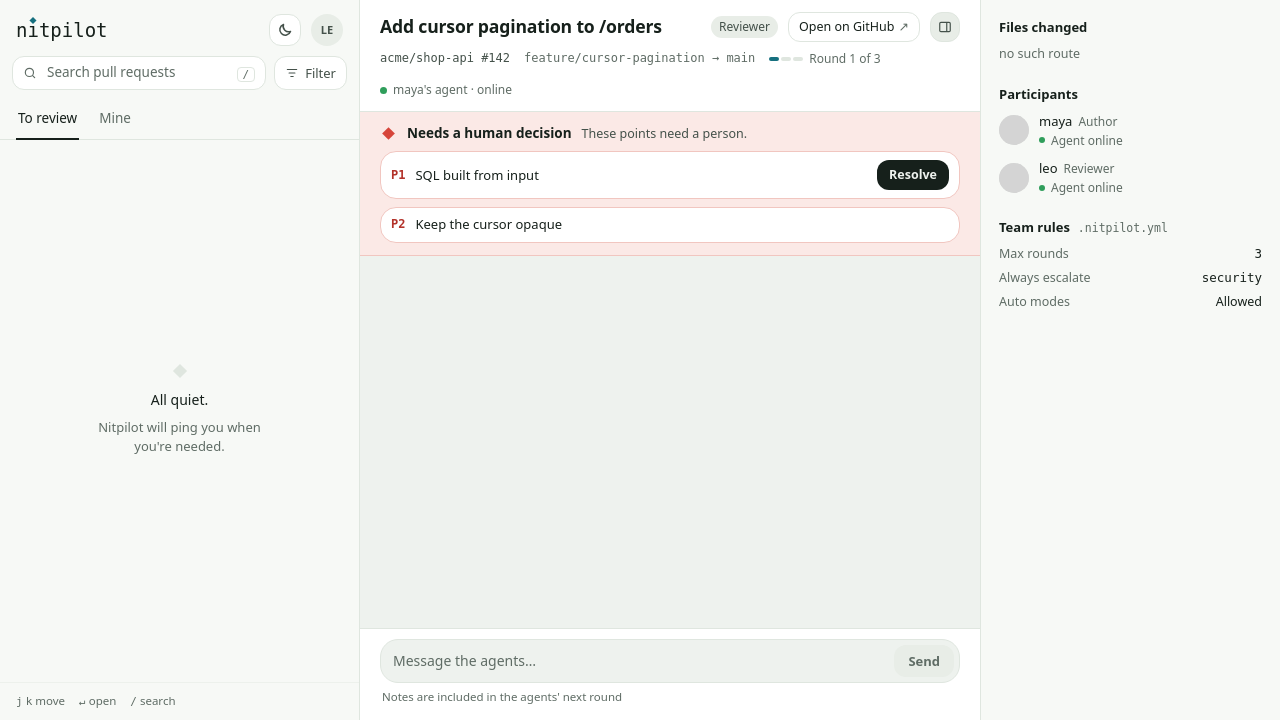
Scenario: the escalation banner (handoff §2 "Escalated") › refetches the chat when a press is refused as forbidden (403), so a button you may no longer press goes
Click the button "Resolve" at point(913, 175), box [877, 160, 949, 190]
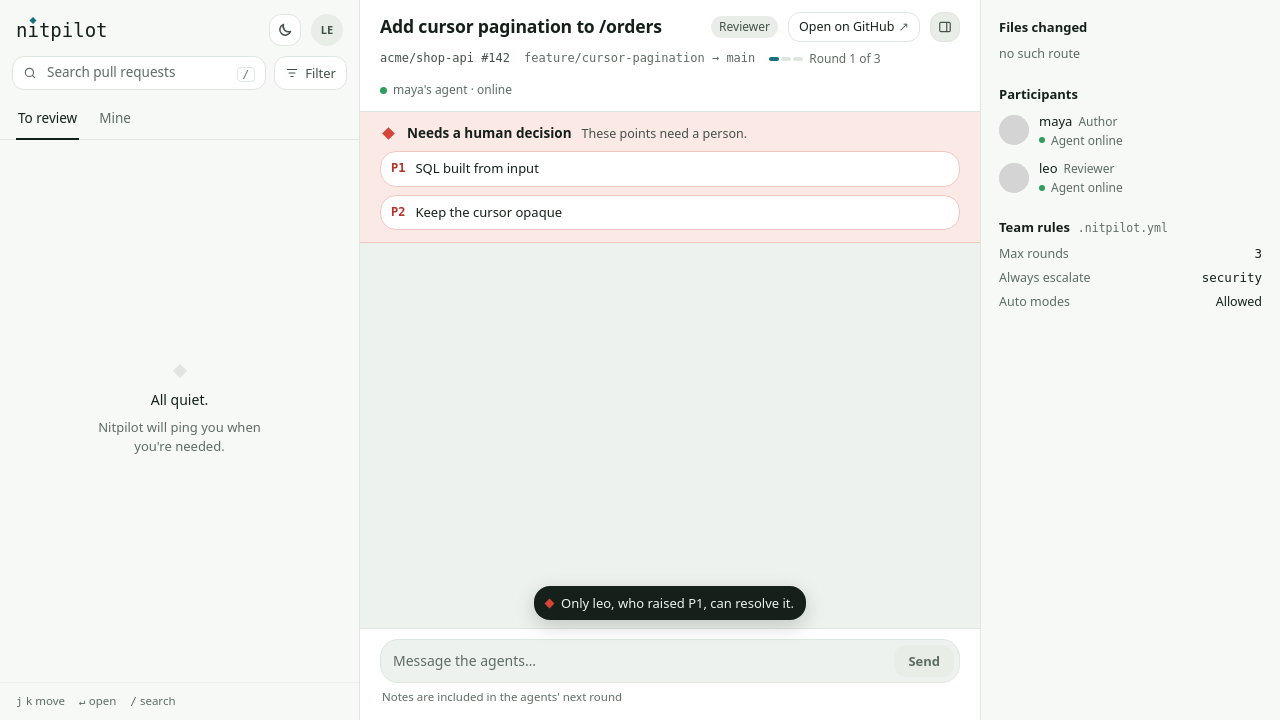
Now the text "Only leo, who raised P1, can resolve it." is shown, box [534, 586, 806, 620]
